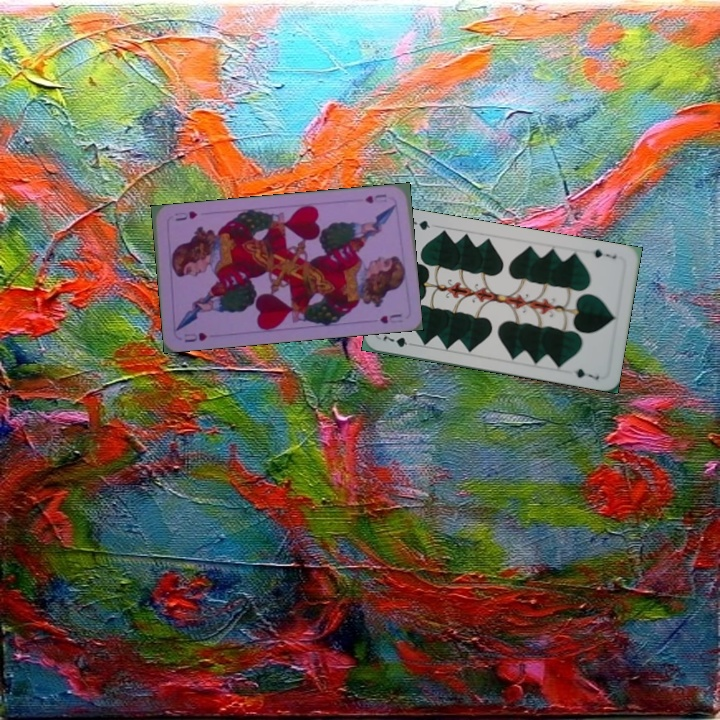G7: (379, 330, 418, 350), (589, 245, 619, 262)
HU: (180, 328, 209, 345), (361, 190, 390, 206)
